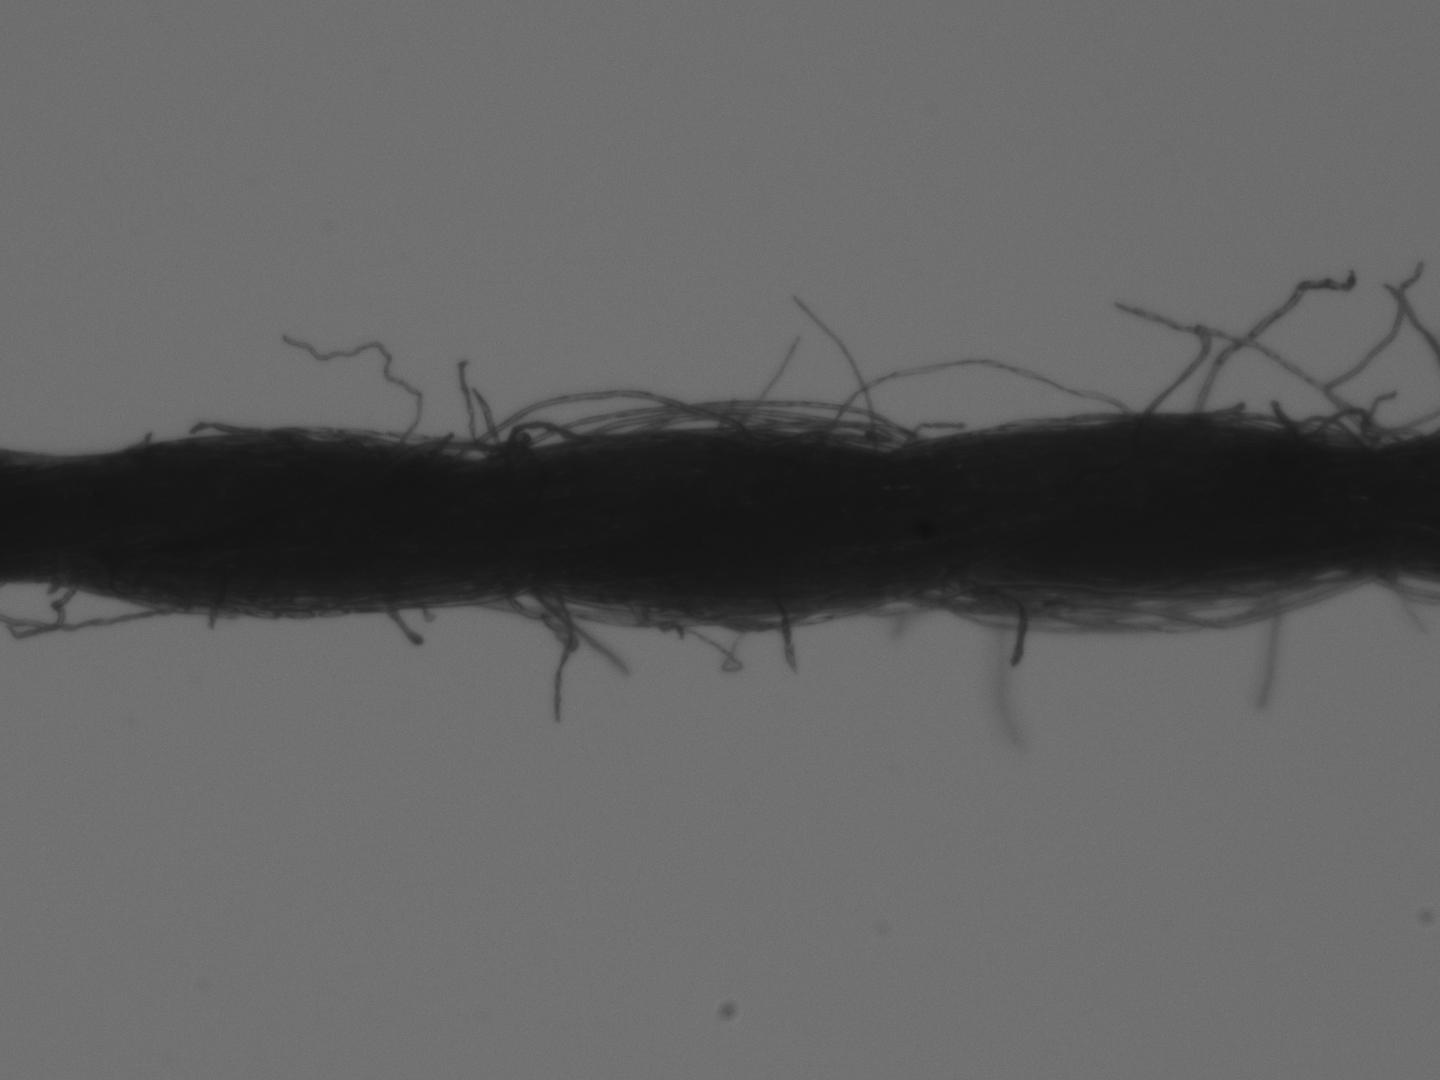loop_fiber: (807, 352, 1129, 469), (447, 385, 754, 462), (531, 393, 927, 449), (1042, 571, 1367, 630), (475, 592, 709, 660), (904, 577, 1100, 614), (490, 419, 632, 463), (1281, 403, 1409, 446)
protruding_fiber: (278, 329, 429, 459), (765, 599, 803, 683)
